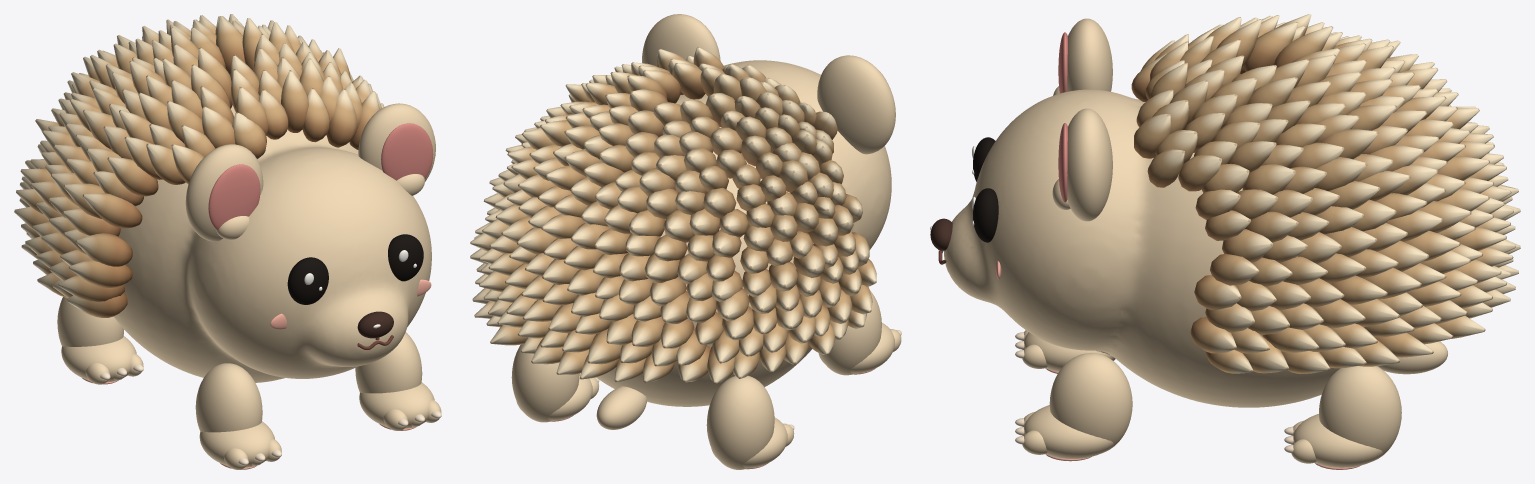
The model's file is hedgehog-stage-05.glb.
3 views of the same model, side by side, from view 1: azimuth 30°, elevation 25°; view 2: azimuth 150°, elevation 25°; view 3: azimuth 270°, elevation 25° (orthographic). The views are drawn at different scales.
Visible parts, largest first — view 1: S05 • 275 individually formed rounded quills, S05 • seamless sculpted body and face, S05 • L front leg, S05 • L ear • outer rim, S05 • R front leg, S05 • L ear • recessed inner bowl, S05 • R ear • recessed inner bowl, S05 • R ear • outer rim, S05 • L rear leg, S05 • R front paw, S05 • L front paw, S05 • L rear paw (+4 smaller); view 2: S05 • 275 individually formed rounded quills, S05 • seamless sculpted body and face, S05 • L ear • outer rim, S05 • L rear leg, S05 • R rear leg, S05 • R ear • outer rim, S05 • L front leg, S05 • small tail, S05 • L rear paw, S05 • L front paw, S05 • R rear paw; view 3: S05 • 275 individually formed rounded quills, S05 • seamless sculpted body and face, S05 • R front leg, S05 • R rear leg, S05 • R ear • outer rim, S05 • L ear • outer rim, S05 • R rear paw, S05 • R front paw, S05 • R glossy eye, S05 • small tail, S05 • L front paw, S05 • R ear • recessed inner bowl.
Boxes of the visible parts, bbox=[...] form: S05 • 275 individually formed rounded quills: bbox=[14, 14, 384, 317]; S05 • seamless sculpted body and face: bbox=[113, 105, 431, 382]; S05 • L front leg: bbox=[195, 363, 262, 432]; S05 • L ear • outer rim: bbox=[185, 144, 263, 241]; S05 • R front leg: bbox=[355, 332, 422, 393]; S05 • L ear • recessed inner bowl: bbox=[208, 164, 260, 230]; S05 • R ear • recessed inner bowl: bbox=[381, 123, 433, 180]; S05 • R ear • outer rim: bbox=[358, 103, 435, 181]; S05 • L rear leg: bbox=[57, 297, 124, 346]; S05 • R front paw: bbox=[359, 382, 434, 428]; S05 • L front paw: bbox=[199, 421, 274, 467]; S05 • L rear paw: bbox=[61, 336, 136, 382]; S05 • 275 individually formed rounded quills: bbox=[470, 47, 876, 383]; S05 • seamless sculpted body and face: bbox=[596, 60, 891, 406]; S05 • L ear • outer rim: bbox=[817, 55, 895, 154]; S05 • L rear leg: bbox=[706, 375, 774, 469]; S05 • R rear leg: bbox=[511, 344, 579, 422]; S05 • R ear • outer rim: bbox=[642, 14, 720, 65]; S05 • L front leg: bbox=[818, 290, 881, 375]; S05 • small tail: bbox=[596, 386, 646, 429]; S05 • L rear paw: bbox=[711, 417, 787, 468]; S05 • L front paw: bbox=[819, 323, 894, 373]; S05 • R rear paw: bbox=[516, 373, 592, 420]; S05 • 275 individually formed rounded quills: bbox=[1131, 14, 1520, 373]; S05 • seamless sculpted body and face: bbox=[944, 74, 1339, 407]; S05 • R front leg: bbox=[1049, 353, 1132, 453]; S05 • R rear leg: bbox=[1319, 366, 1401, 461]; S05 • R ear • outer rim: bbox=[1067, 108, 1112, 221]; S05 • L ear • outer rim: bbox=[1067, 18, 1112, 91]; S05 • R rear paw: bbox=[1293, 414, 1383, 467]; S05 • R front paw: bbox=[1024, 405, 1113, 458]; S05 • R glossy eye: bbox=[973, 188, 998, 242]; S05 • small tail: bbox=[1378, 341, 1447, 374]; S05 • L front paw: bbox=[1024, 332, 1114, 371]; S05 • R ear • recessed inner bowl: bbox=[1058, 123, 1067, 202].
Bounding box in the file's own units: 1.59 × 1.48 × 2.1.
Materials: 9 (9 with a texture image).
